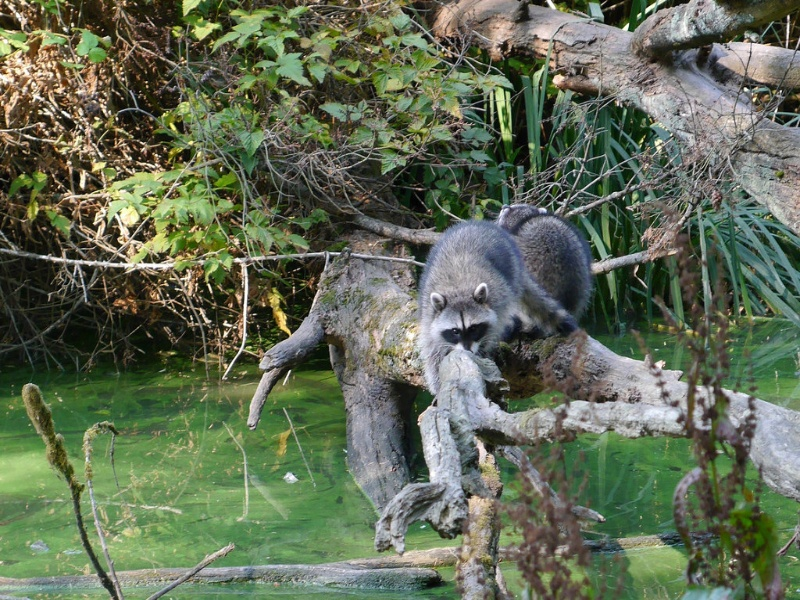raccoon: (410, 212, 531, 401), (489, 193, 588, 343)
